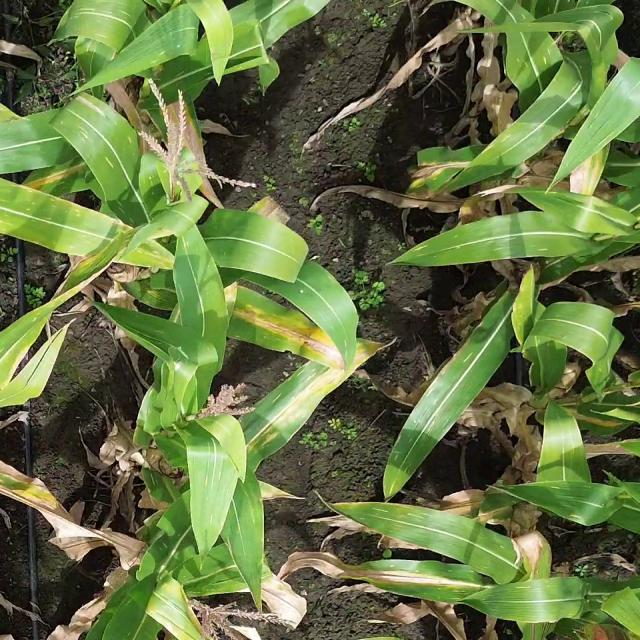gray-leaf-spot: (522, 54, 620, 198), (362, 425, 462, 538), (56, 88, 158, 190), (194, 481, 285, 587), (231, 356, 332, 449), (409, 211, 557, 269), (534, 448, 613, 541)
northern-leaf-blight: (223, 291, 394, 406), (214, 284, 396, 376)
southern-leaf-blight: (20, 183, 120, 275), (333, 554, 485, 612)
